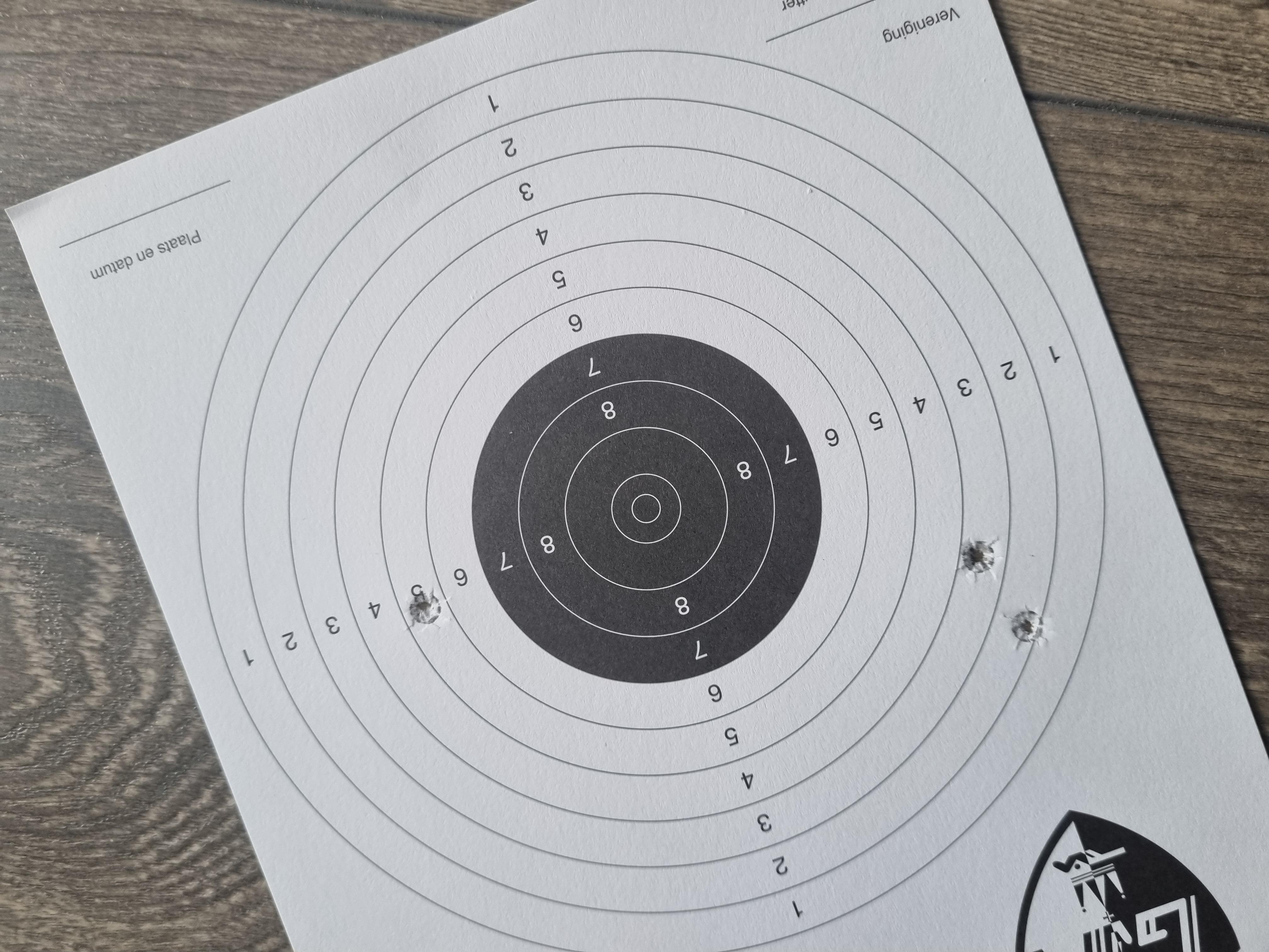hole: (495, 718, 549, 749), (432, 306, 484, 331), (406, 759, 457, 782)
